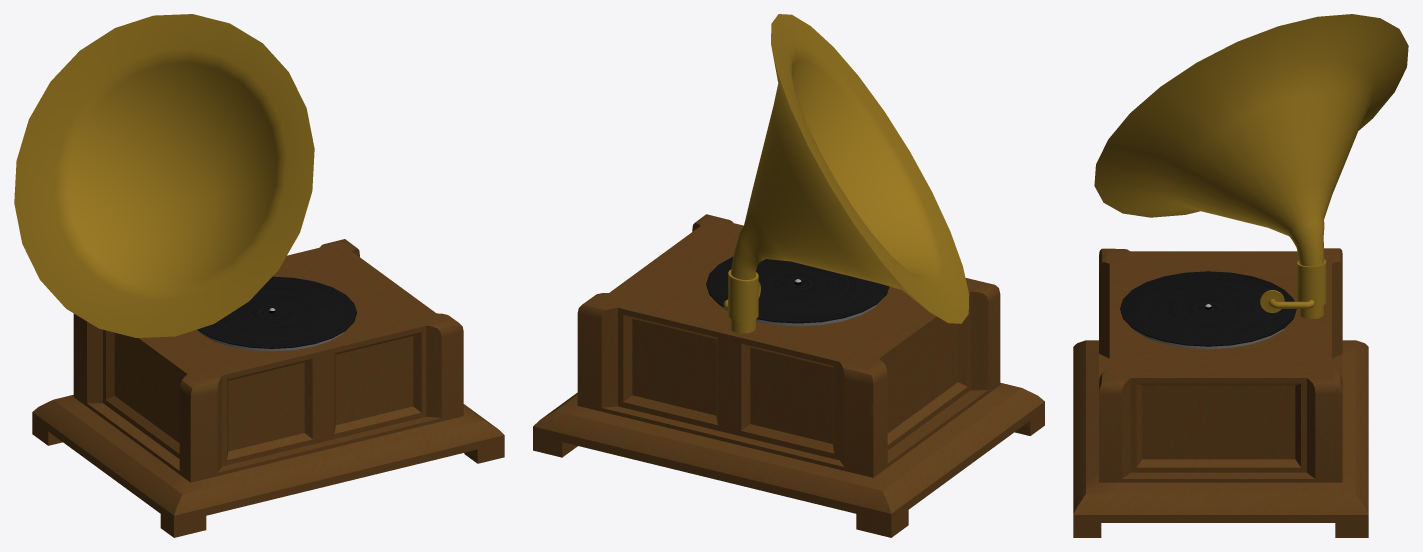
Rendered from gramophone.obj.
3 renders of one model, left to right at view 1: azimuth 30°, elevation 25°; view 2: azimuth 150°, elevation 25°; view 3: azimuth 270°, elevation 25°, orthographic. The views are drawn at different scales.
Parts seen in each view (by area): view 1: Cylinder001, Box001, Cylinder003; view 2: Box001, Cylinder001, Cylinder003; view 3: Box001, Cylinder001, Cylinder003, Cylinder004, Cylinder002.
Part boxes in pixels (x1=…): Cylinder001: x1=14, y1=14, x2=314, y2=337; Box001: x1=32, y1=239, x2=504, y2=537; Cylinder003: x1=197, y1=276, x2=356, y2=348; Box001: x1=533, y1=214, x2=1044, y2=537; Cylinder001: x1=728, y1=14, x2=969, y2=333; Cylinder003: x1=706, y1=257, x2=889, y2=323; Box001: x1=1073, y1=248, x2=1368, y2=537; Cylinder001: x1=1094, y1=14, x2=1408, y2=318; Cylinder003: x1=1120, y1=271, x2=1296, y2=346; Cylinder004: x1=1260, y1=290, x2=1314, y2=312; Cylinder002: x1=1132, y1=322, x2=1290, y2=349.
Size of the model in its own units: 72.61 by 79.58 by 57.29.
